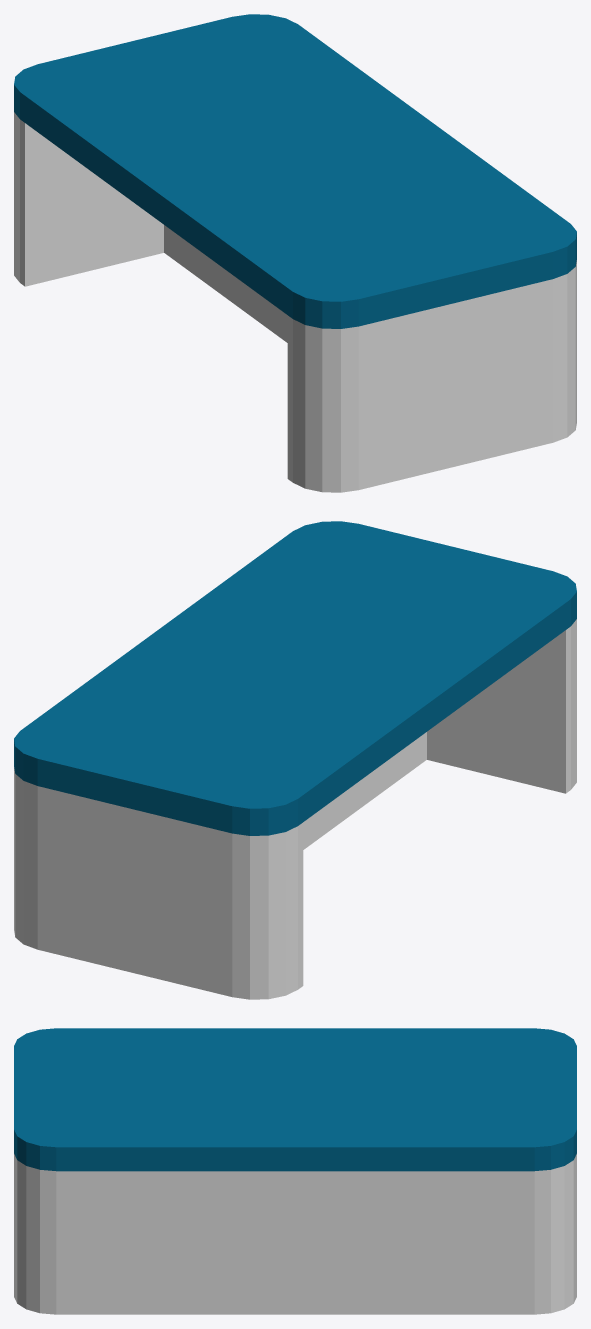
The model's file is G01_002_Desk.fbx.
The picture shows the model from 3 angles, top to bottom: view 1: azimuth 30°, elevation 25°; view 2: azimuth 150°, elevation 25°; view 3: azimuth 270°, elevation 25°; orthographic projection. The views are drawn at different scales.
Visible parts, largest first — view 1: 011_Cage_01_B.001; view 2: 011_Cage_01_B.001; view 3: 011_Cage_01_B.001.
Boxes of the visible parts, x1=… form: 011_Cage_01_B.001: x1=14, y1=14, x2=576, y2=492; 011_Cage_01_B.001: x1=14, y1=521, x2=576, y2=999; 011_Cage_01_B.001: x1=14, y1=1028, x2=576, y2=1314.
Size of the model in its own units: 200 by 131 by 400.
